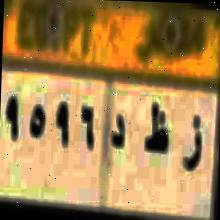5: (27, 100, 48, 148)
6: (77, 102, 102, 153)
9: (1, 90, 21, 150), (52, 104, 74, 152)
Thaa: (142, 100, 170, 160)
daal: (108, 112, 129, 160)
zay: (182, 104, 206, 182)
